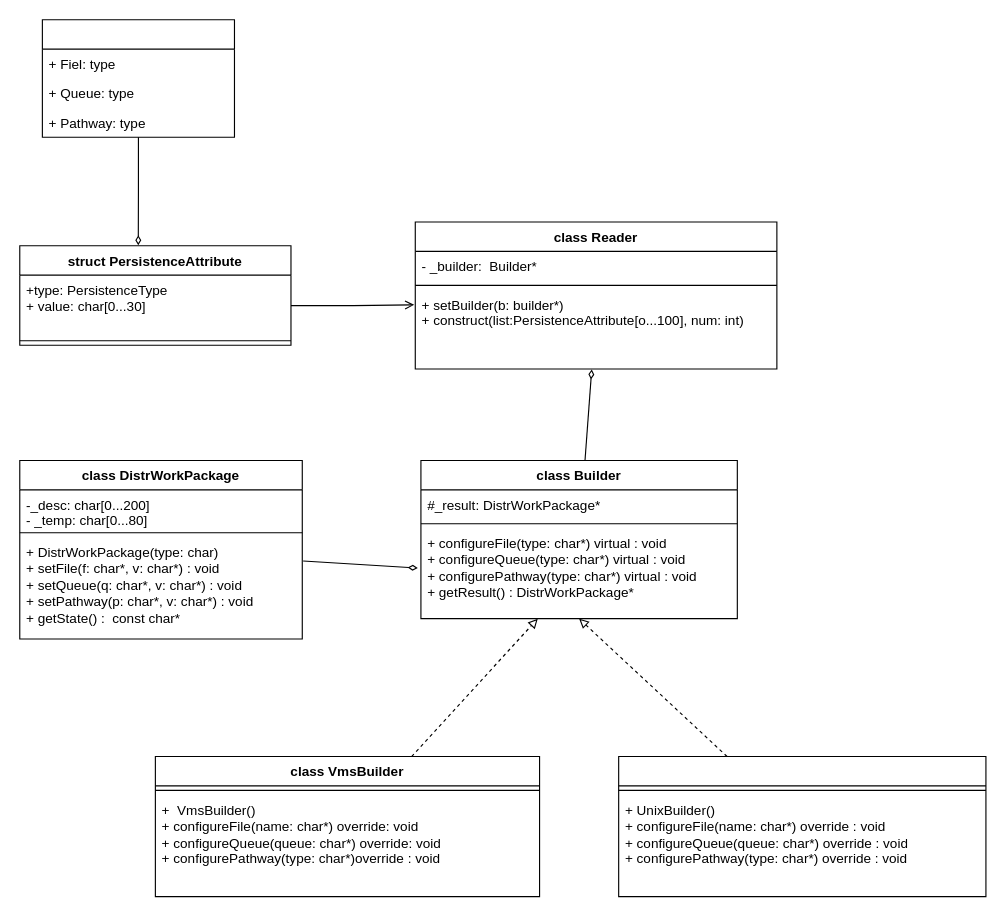
Image size: 1006x920. Some labels were removed from this diagram. The box of each missing label's shape, as (x1, y1, x2, y2) in pixels:
class UnixBuilder: (618, 755, 986, 897)
enum PersistenceType: (41, 19, 234, 137)
